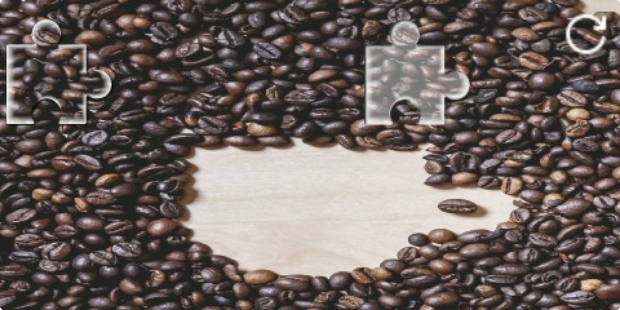target: (365, 21, 470, 125)
